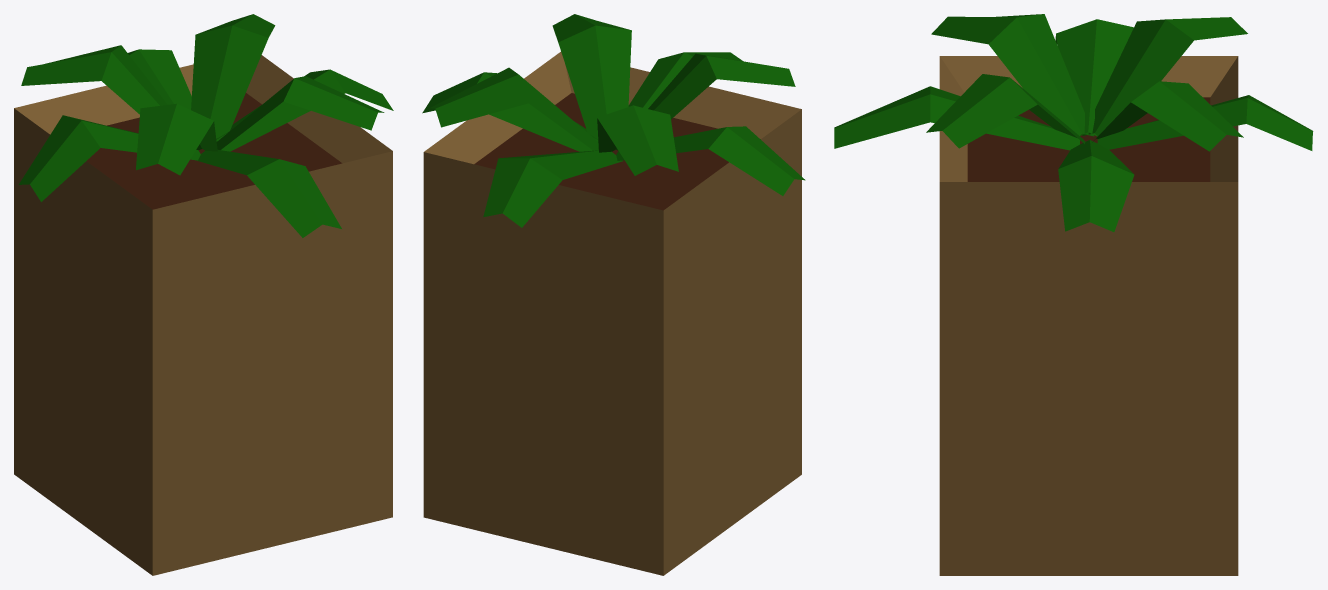
The model's file is PottedPlant.fbx.
The picture shows the model from 3 angles, left to right: view 1: azimuth 30°, elevation 25°; view 2: azimuth 150°, elevation 25°; view 3: azimuth 270°, elevation 25°; orthographic projection. The views are drawn at different scales.
Parts seen in each view (by area): view 1: Cube, Small Leaf.001; view 2: Cube, Small Leaf.001; view 3: Cube, Small Leaf.001.
Part boxes in pixels (bbox=[...]): Cube: bbox=[14, 55, 392, 575]; Small Leaf.001: bbox=[18, 14, 393, 237]; Cube: bbox=[423, 52, 801, 575]; Small Leaf.001: bbox=[422, 14, 805, 227]; Cube: bbox=[939, 56, 1238, 575]; Small Leaf.001: bbox=[834, 14, 1313, 231].
Bounding box in the file's own units: 297 × 343 × 321.
